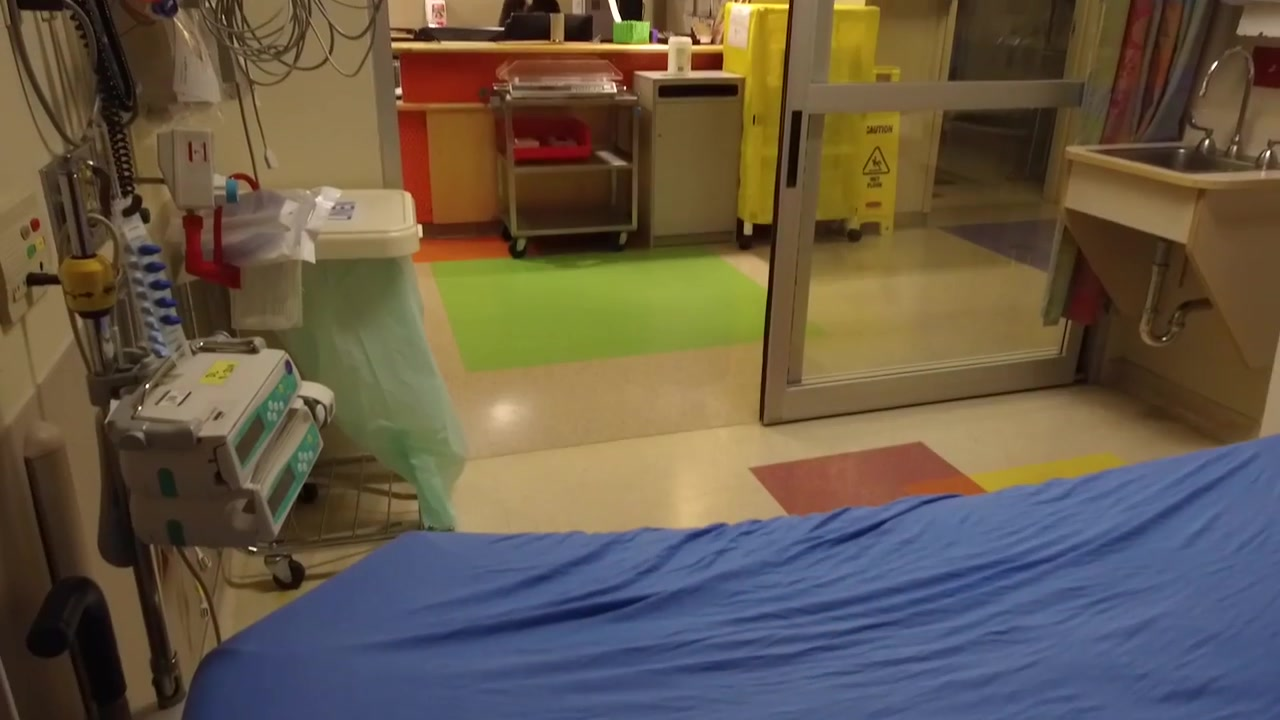counter: (391, 43, 728, 232)
curtain: (1059, 1, 1213, 140)
faucet: (1185, 42, 1280, 171)
hospital_bed: (180, 426, 1280, 720)
sink: (1083, 137, 1280, 179)
syringe_pump: (109, 341, 298, 482), (131, 413, 326, 543)
utility_cart: (502, 80, 641, 262)
waste_bin: (289, 190, 478, 536)
